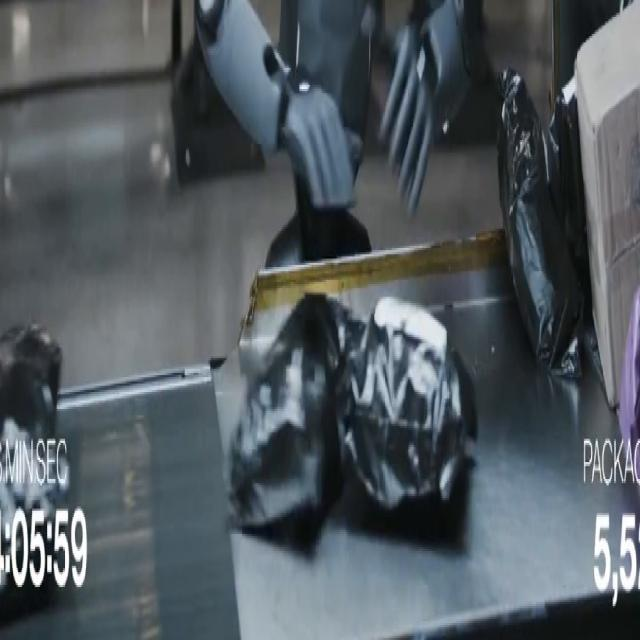package: (227, 295, 341, 542), (344, 299, 476, 510), (498, 68, 582, 379), (575, 3, 639, 406), (0, 325, 70, 548), (548, 79, 591, 315), (0, 325, 61, 436), (619, 289, 639, 476)
